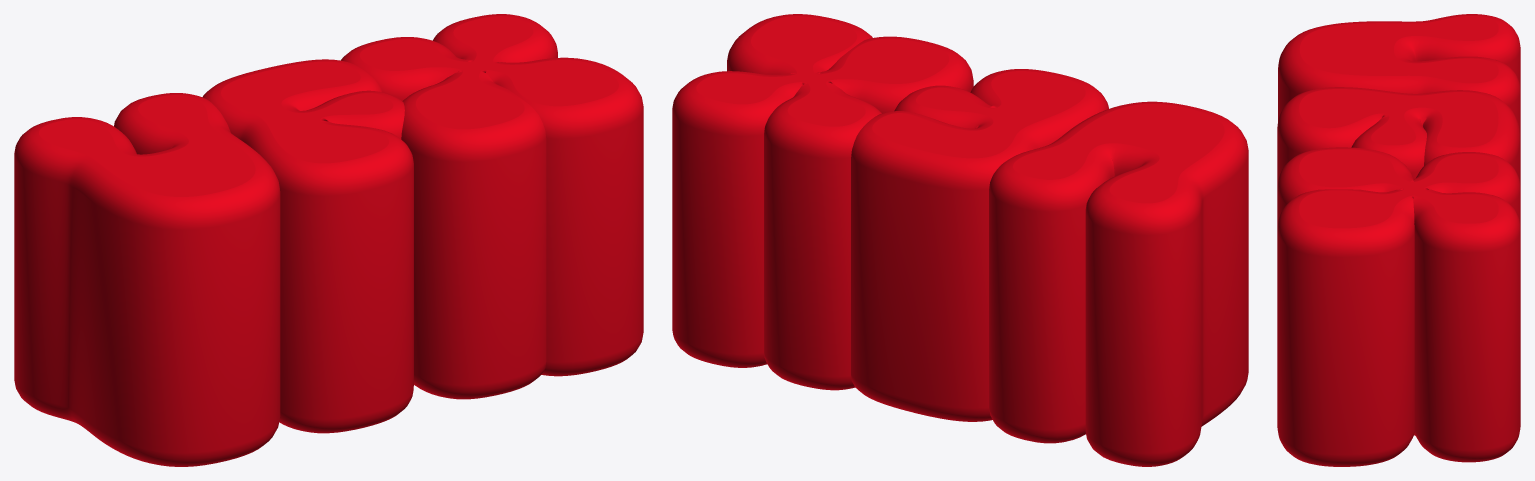
File: VFX_3D_Text.fbx
3 views of the same model, side by side, from view 1: azimuth 30°, elevation 25°; view 2: azimuth 150°, elevation 25°; view 3: azimuth 270°, elevation 25° (orthographic). The views are drawn at different scales.
Parts seen in each view (by area): view 1: Text; view 2: Text; view 3: Text.
Boxes of the visible parts, box(x1,y1,x2,y2) form: Text: box(14, 14, 643, 466); Text: box(672, 14, 1248, 466); Text: box(1277, 14, 1520, 466).
Bounding box in the file's own units: 301 × 144 × 134.
